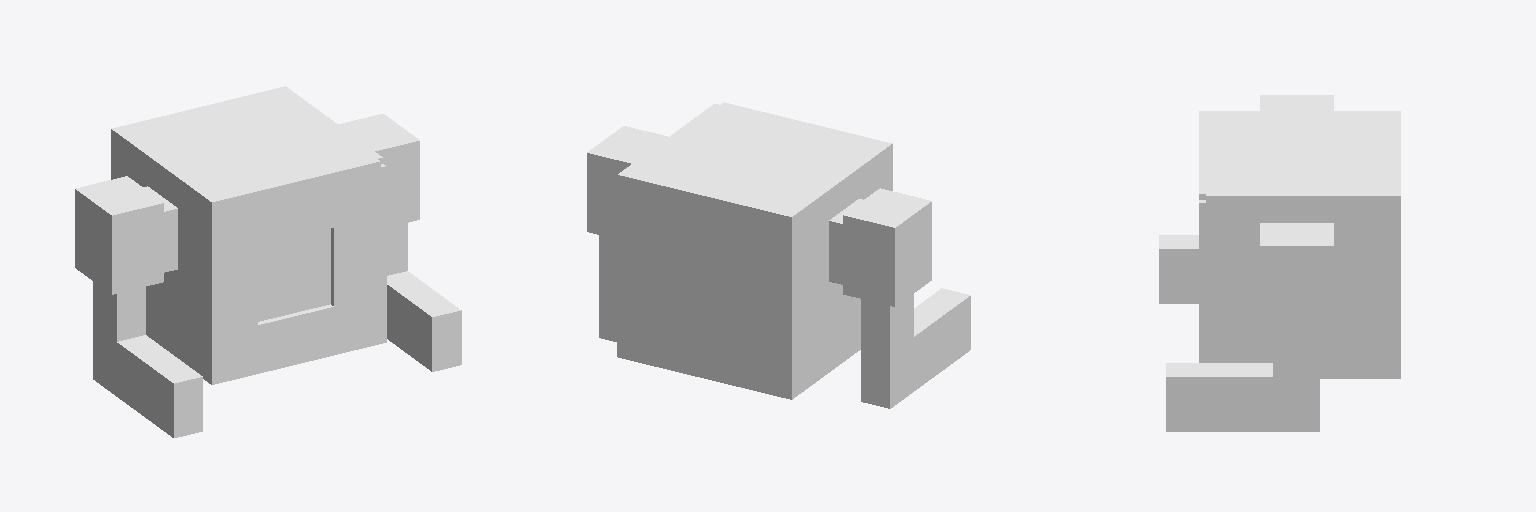
File: enemy_Physics.obj
The picture shows the model from 3 angles: view 1: azimuth 30°, elevation 25°; view 2: azimuth 150°, elevation 25°; view 3: azimuth 270°, elevation 25°; orthographic projection.
Parts seen in each view (by area): view 1: object 1; view 2: object 1; view 3: object 1.
Boxes of the visible parts, x1=… form: object 1: x1=75, y1=86, x2=461, y2=437; object 1: x1=587, y1=102, x2=970, y2=408; object 1: x1=1159, y1=95, x2=1400, y2=431.
Size of the model in its own units: 5.3 by 3.4 by 3.6.